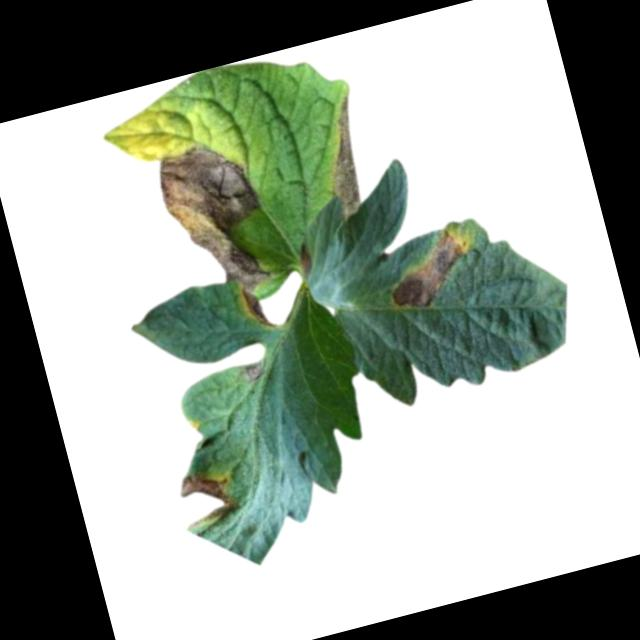Early_blight: (151, 135, 273, 306), (380, 224, 485, 317), (311, 93, 380, 219), (174, 466, 242, 530), (241, 285, 277, 335), (293, 241, 319, 285), (242, 360, 268, 385)
